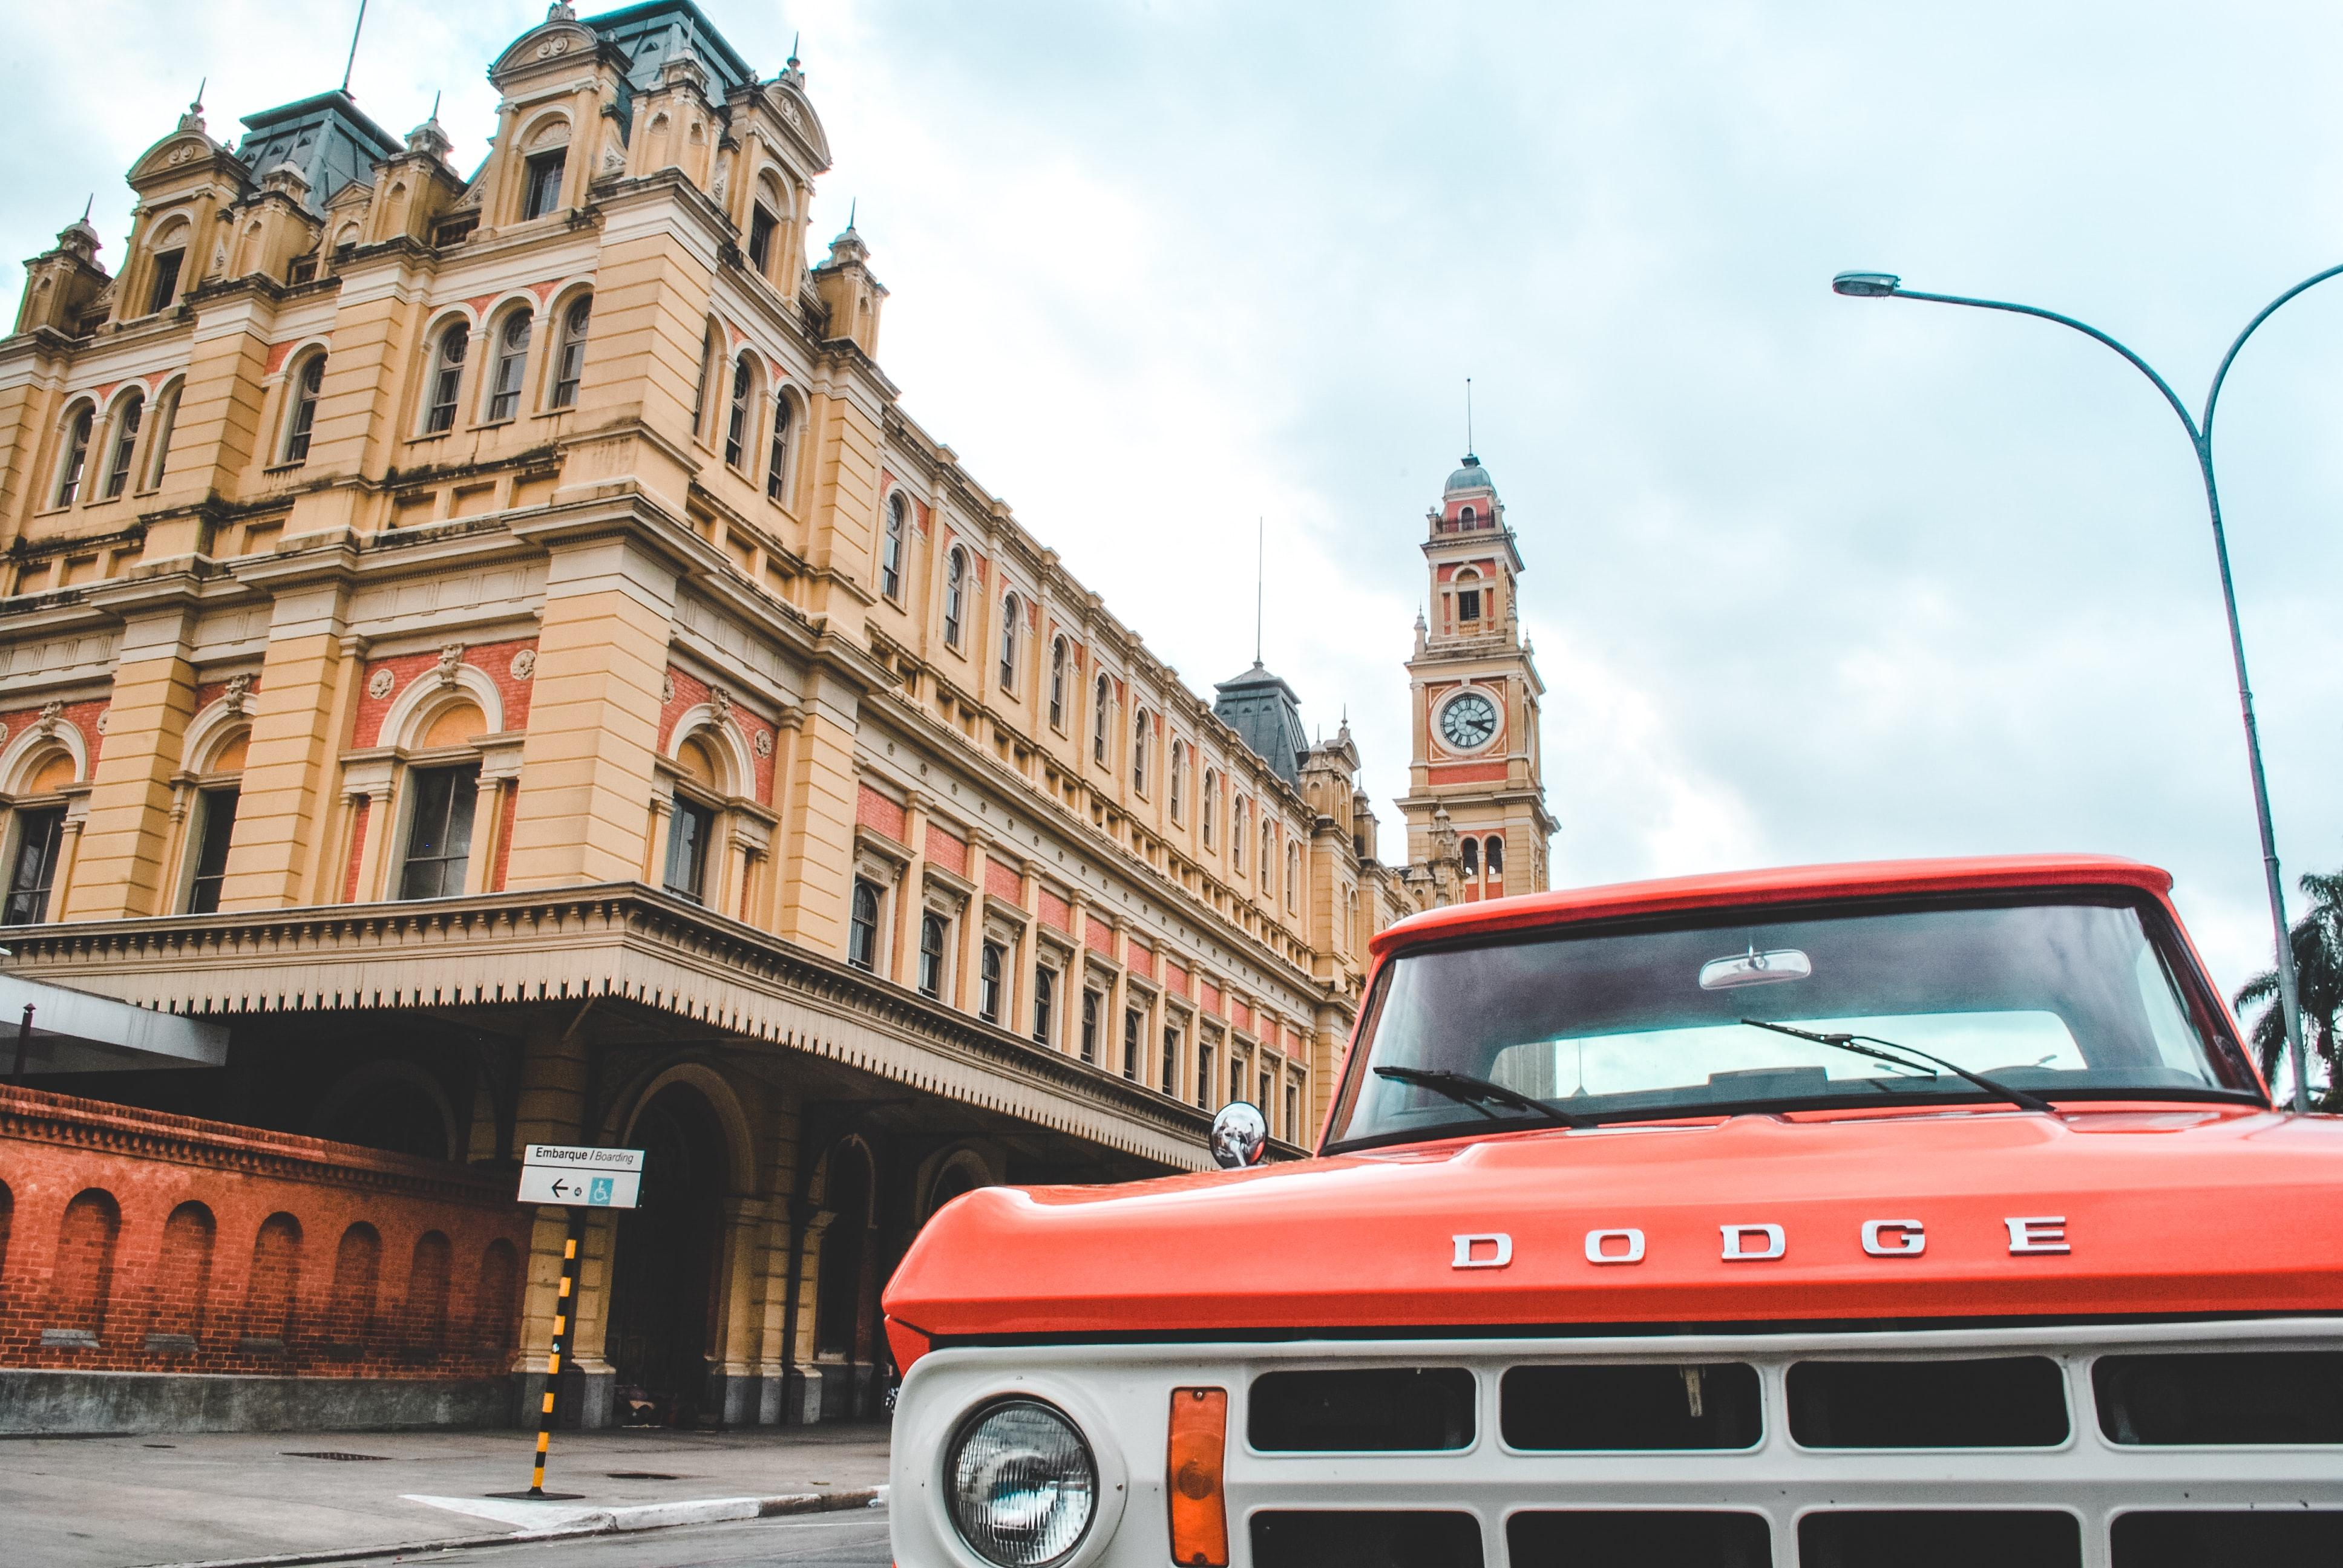dodge: (1410, 1195, 2126, 1307)
